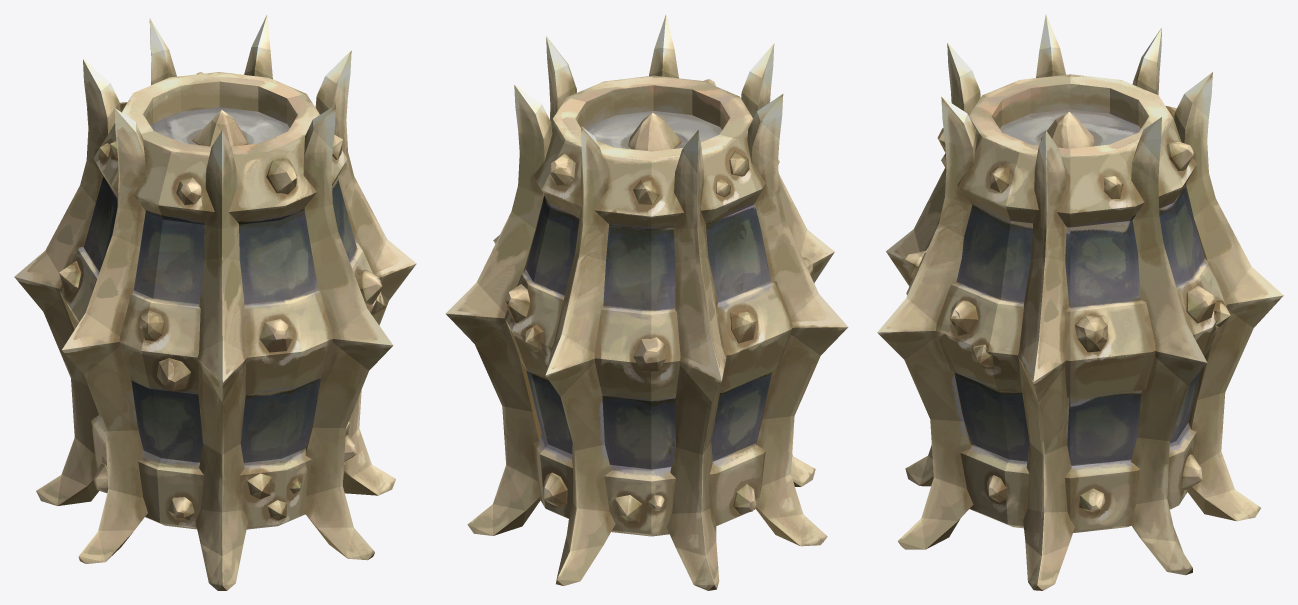
File: Barrel.fbx
3 views of the same model, side by side, from view 1: azimuth 30°, elevation 25°; view 2: azimuth 150°, elevation 25°; view 3: azimuth 270°, elevation 25° (orthographic).
Parts seen in each view (by area): view 1: Dn_HL_Barrel_A.mo; view 2: Dn_HL_Barrel_A.mo; view 3: Dn_HL_Barrel_A.mo.
Boxes of the visible parts, left/top/right/bottom form: Dn_HL_Barrel_A.mo: left=14, top=14, right=416, bottom=590; Dn_HL_Barrel_A.mo: left=445, top=14, right=848, bottom=590; Dn_HL_Barrel_A.mo: left=877, top=14, right=1283, bottom=590.
Bounding box in the file's own units: 144 × 172 × 143.
